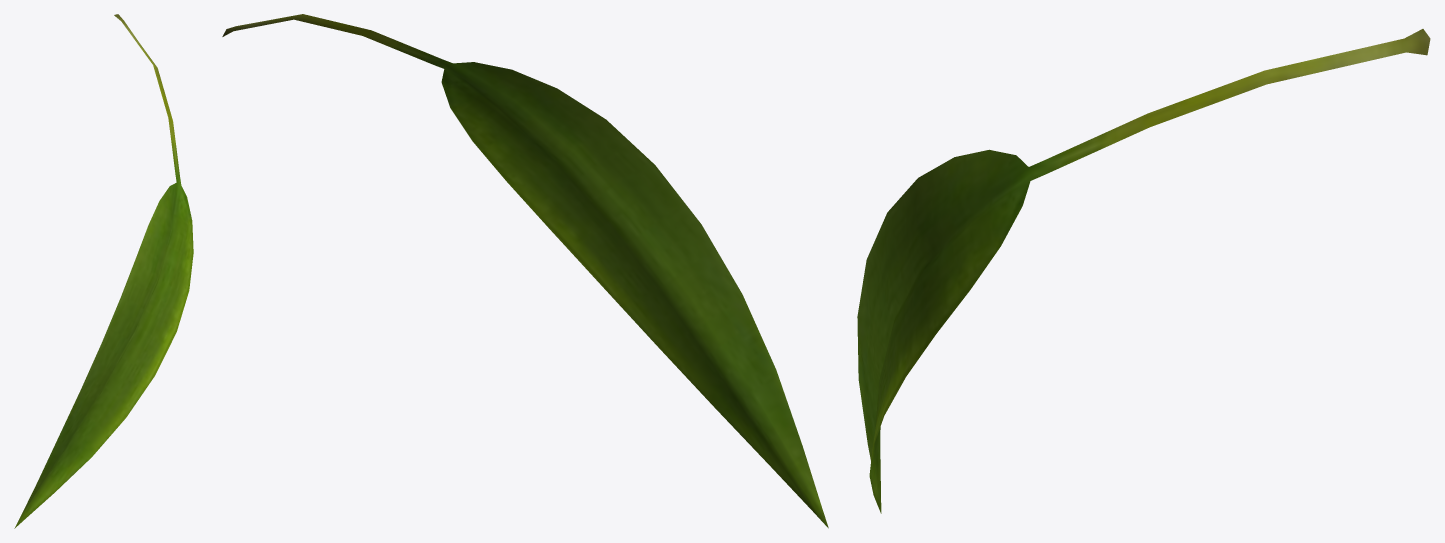
3 views of the same model, side by side, from view 1: azimuth 30°, elevation 25°; view 2: azimuth 150°, elevation 25°; view 3: azimuth 270°, elevation 25° (orthographic). The views are drawn at different scales.
Parts seen in each view (by area): view 1: Circle.021; view 2: Circle.021; view 3: Circle.021.
Part boxes in pixels (x1=…): Circle.021: x1=14, y1=14, x2=193, y2=528; Circle.021: x1=222, y1=14, x2=828, y2=528; Circle.021: x1=857, y1=29, x2=1430, y2=513.
Bounding box in the file's own units: 0.8847 × 1.23 × 0.8968.
Materials: 1 (1 with a texture image).
